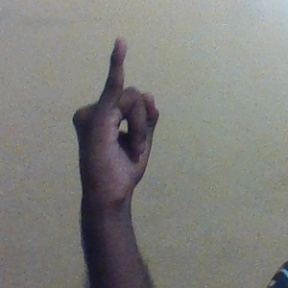I: (67, 36, 163, 203)
